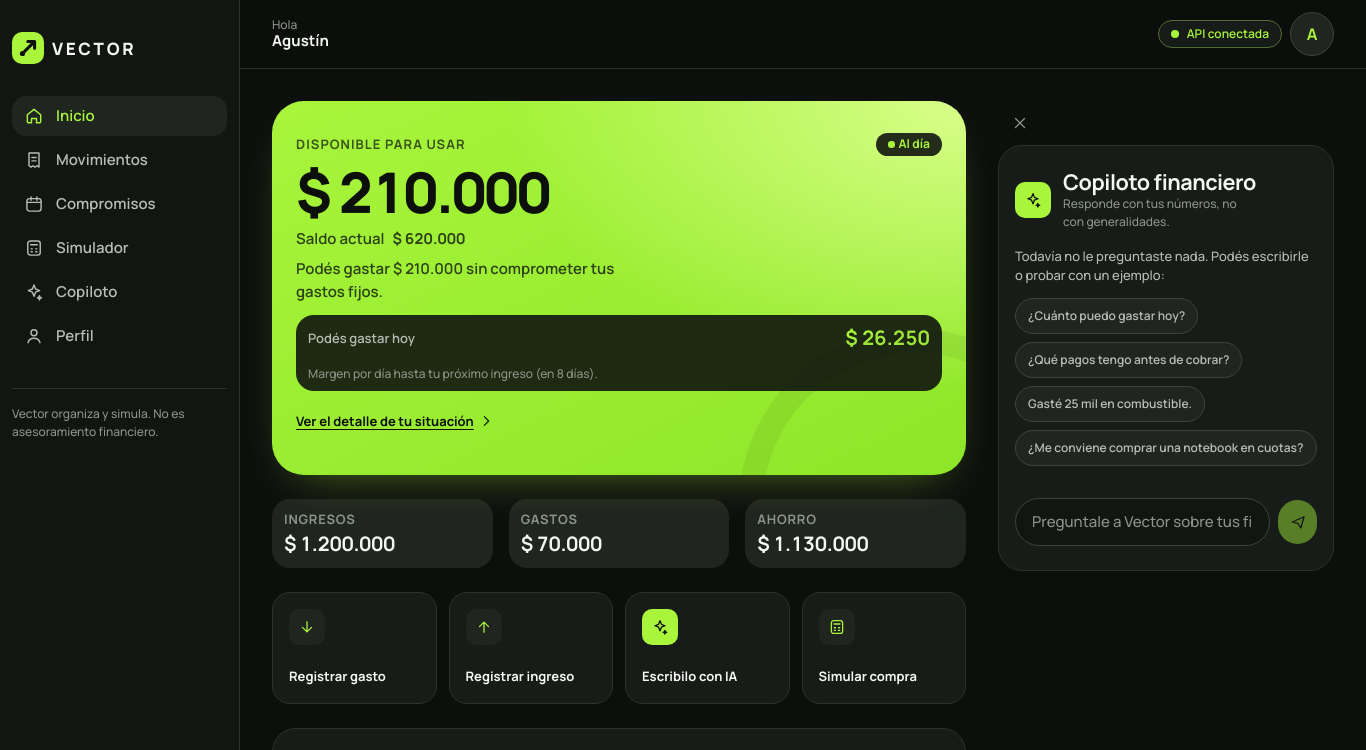
Test: Acciones rápidas › "Escribilo con IA" abre el borrador asistido y sigue aclarando que no registra nada
What coordinates should you click on to do the following:
click the button "Escribilo con IA"
I would click on:
 (707, 648)
Its box is [625,592,790,704].
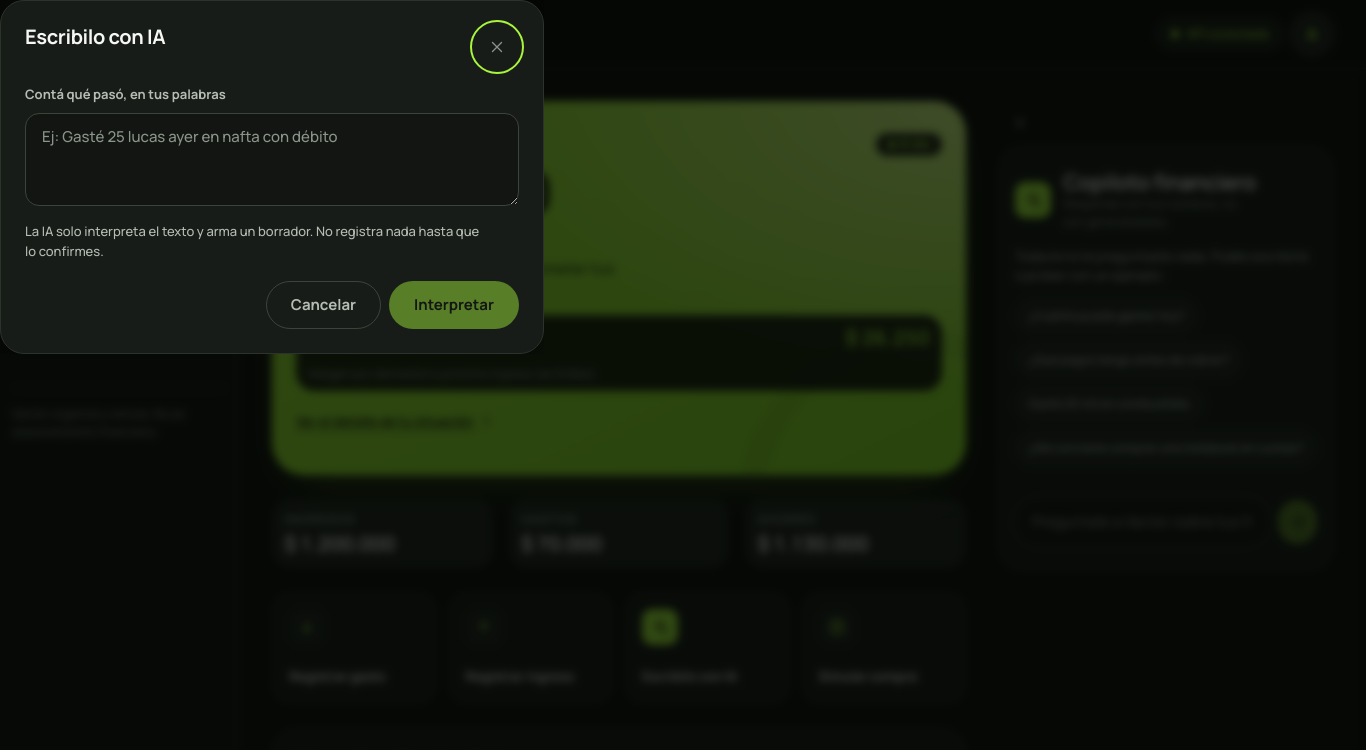
Expected: the heading "Escribilo con IA" is shown, [25,25,165,48]
Expected: the text "No registra nada hasta que lo confirmes" is shown, [25,222,479,260]
